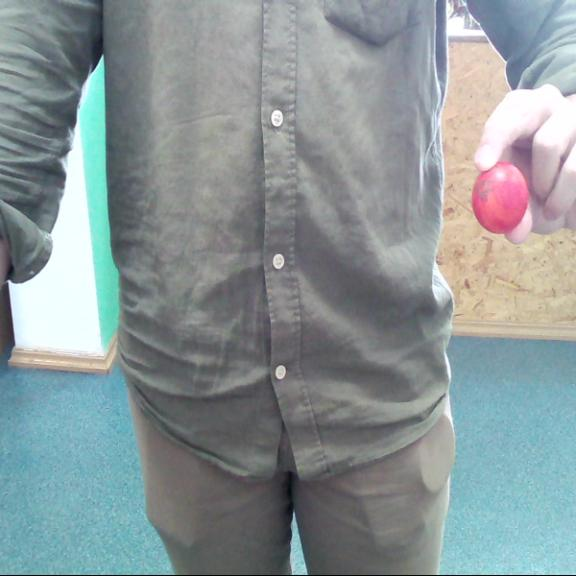ball: (469, 157, 533, 235)
